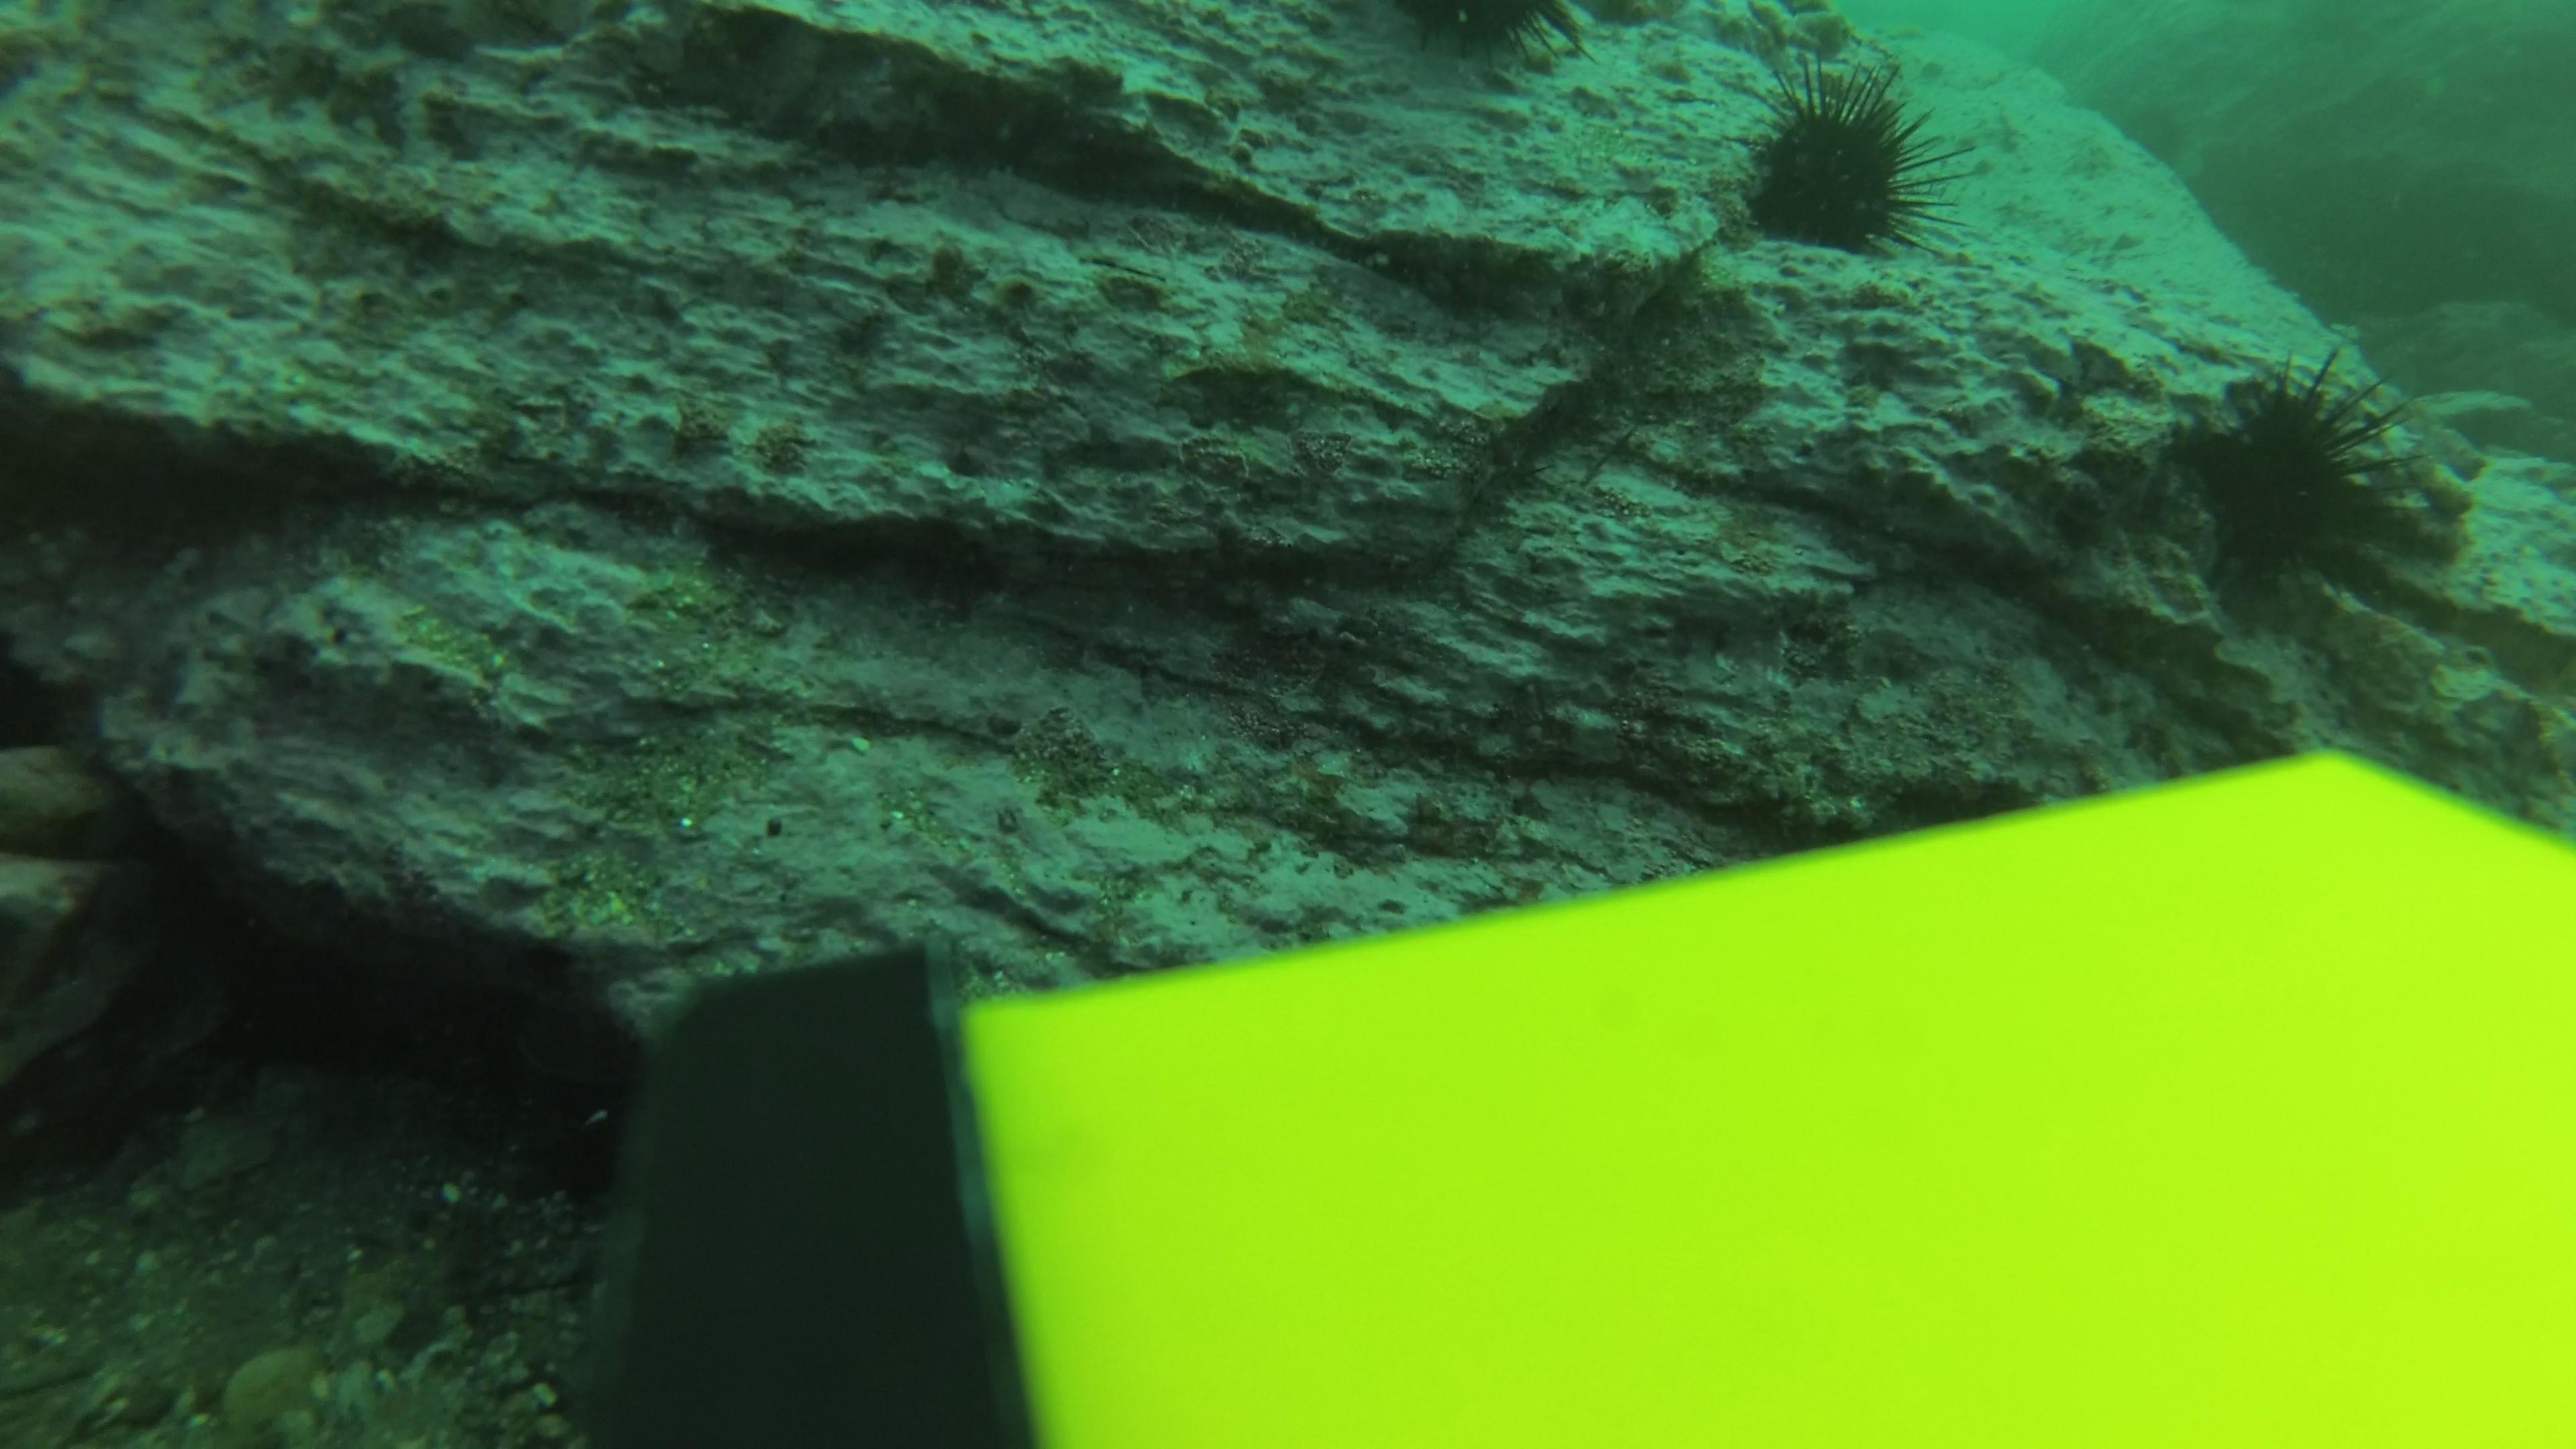echinus: (2158, 345, 2429, 609), (1723, 55, 1959, 267), (1366, 2, 1612, 90)
